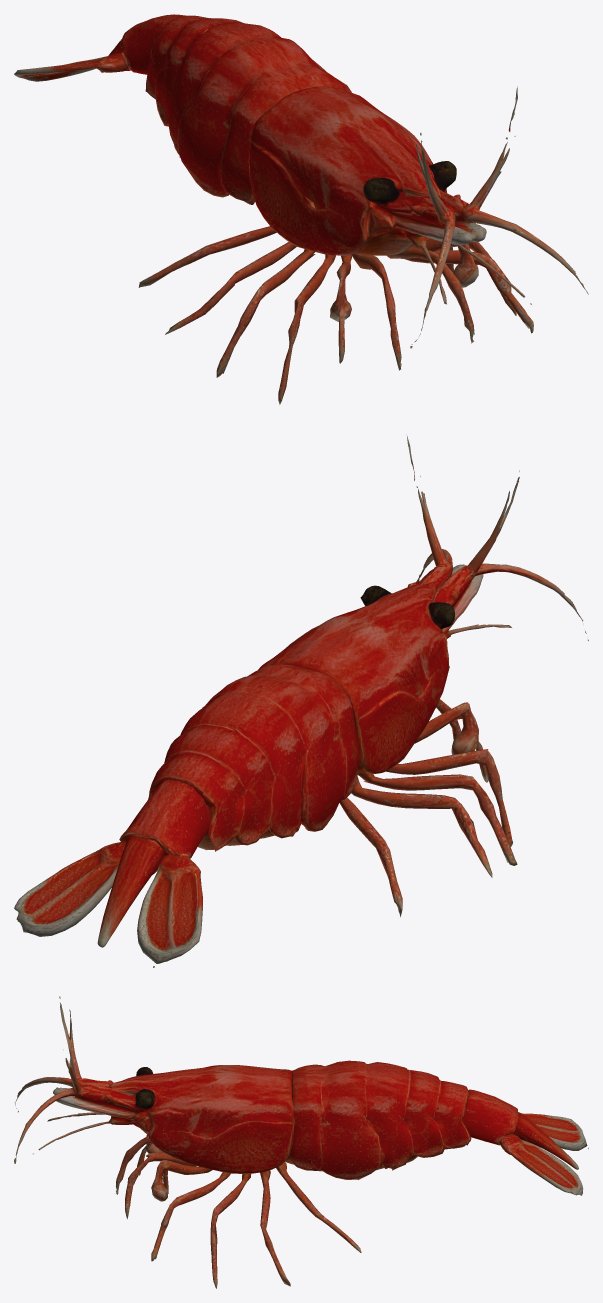
File: red+shrimp+3d+model.glb
3 renders of one model, top to bottom at view 1: azimuth 30°, elevation 25°; view 2: azimuth 150°, elevation 25°; view 3: azimuth 270°, elevation 25°, orthographic. The views are drawn at different scales.
Parts seen in each view (by area): view 1: tripo_part_0, tripo_part_1, tripo_part_3, tripo_part_2, tripo_part_12, tripo_part_11, tripo_part_8, tripo_part_6, tripo_part_4, tripo_part_10, tripo_part_9; view 2: tripo_part_1, tripo_part_0, tripo_part_3, tripo_part_2, tripo_part_12, tripo_part_10, tripo_part_11; view 3: tripo_part_0, tripo_part_1, tripo_part_3, tripo_part_8, tripo_part_7, tripo_part_9, tripo_part_5, tripo_part_13, tripo_part_4, tripo_part_6.
Boxes of the visible parts, x1,y1,x2,y2 form: tripo_part_0: (248,86,588,348); tripo_part_1: (145,15,351,204); tripo_part_3: (14,14,185,81); tripo_part_2: (216,249,335,404); tripo_part_12: (165,242,296,334); tripo_part_11: (138,226,276,287); tripo_part_8: (404,250,533,333); tripo_part_6: (352,253,401,370); tripo_part_4: (386,246,474,343); tripo_part_10: (330,255,352,363); tripo_part_9: (413,238,478,287); tripo_part_1: (148,664,358,851); tripo_part_0: (258,434,588,773); tripo_part_3: (14,779,212,967); tripo_part_2: (357,749,517,865); tripo_part_12: (351,777,492,877); tripo_part_10: (414,702,488,782); tripo_part_11: (340,797,402,917); tripo_part_0: (14,996,294,1173); tripo_part_1: (285,1060,471,1179); tripo_part_3: (462,1089,588,1195); tripo_part_8: (151,1172,230,1261); tripo_part_7: (210,1173,251,1288); tripo_part_9: (151,1160,212,1201); tripo_part_5: (260,1170,290,1286); tripo_part_13: (276,1162,361,1252); tripo_part_4: (125,1152,196,1219); tripo_part_6: (116,1136,152,1194).
Bounding box in the file's own units: 0.4441 × 0.4419 × 0.978.
Materials: 14 (14 with a texture image).
